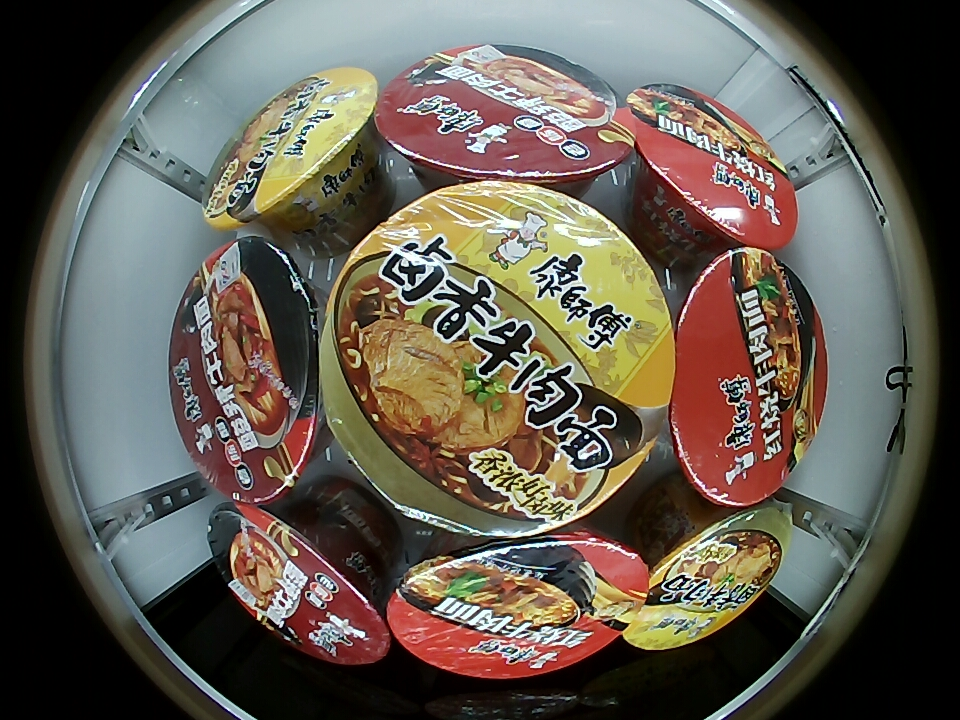hongshaoniurou: (668, 247, 828, 507), (386, 532, 652, 679), (624, 82, 798, 250)
luxiangniurou: (323, 181, 676, 531), (203, 68, 380, 230), (626, 508, 788, 651)
suanlaniurou: (170, 235, 329, 505), (374, 44, 631, 190), (210, 503, 394, 666)
